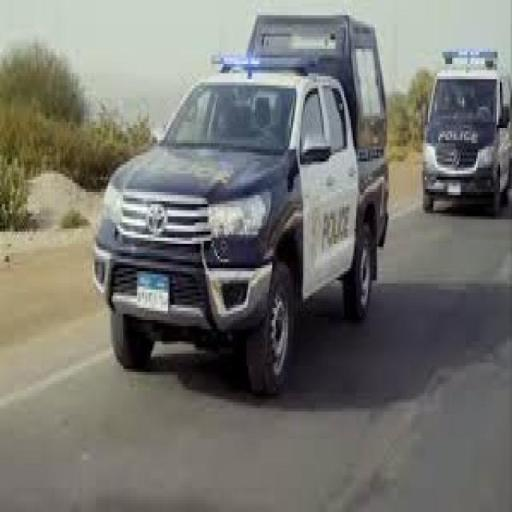Ambulance: (90, 6, 388, 396), (422, 42, 512, 220)
